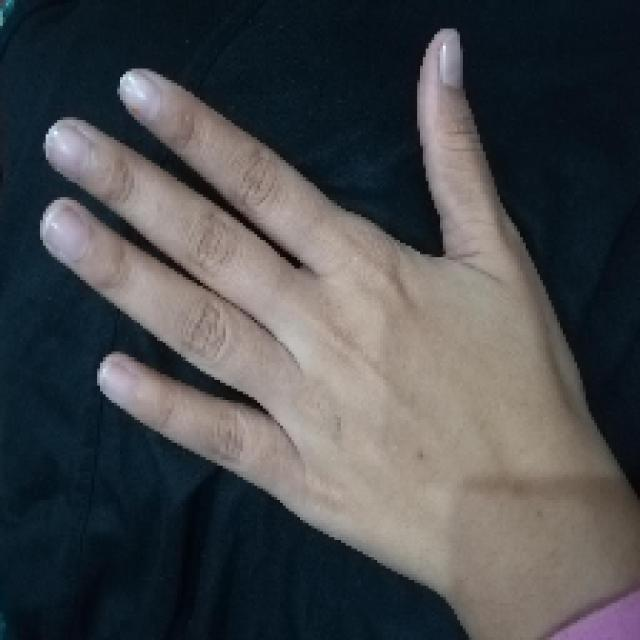Nail: (40, 200, 90, 259), (45, 122, 90, 175), (119, 69, 163, 123), (99, 354, 136, 411), (439, 30, 462, 88)
